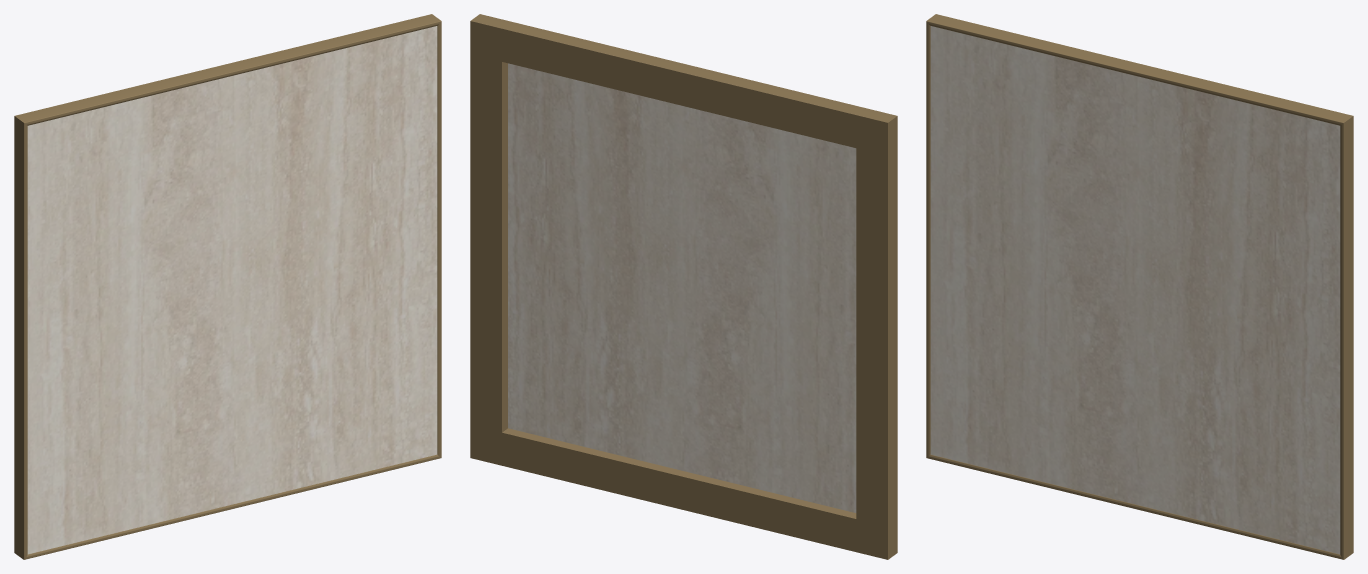
File: SDP-597-597-15.glb
3 renders of one model, left to right at view 1: azimuth 30°, elevation 25°; view 2: azimuth 150°, elevation 25°; view 3: azimuth 330°, elevation 25°, orthographic.
Visible parts, largest first — view 1: Object_node, Extrusion_node_1, Extrusion, Extrusion_node, Extrusion_node_0; view 2: Object_node, Extrusion_node_1, Extrusion, Extrusion_node, Extrusion_node_0; view 3: Object_node, Extrusion_node, Extrusion, Extrusion_node_1, Extrusion_node_0.
Boxes of the visible parts, left/top/right/bottom form: Object_node: left=27, top=26, right=437, bottom=554; Extrusion_node_1: left=14, top=116, right=27, bottom=559; Extrusion: left=15, top=14, right=441, bottom=125; Extrusion_node: left=437, top=21, right=441, bottom=457; Extrusion_node_0: left=24, top=454, right=440, bottom=559; Object_node: left=508, top=63, right=856, bottom=512; Extrusion_node_1: left=856, top=116, right=897, bottom=559; Extrusion: left=470, top=14, right=896, bottom=148; Extrusion_node: left=470, top=21, right=507, bottom=457; Extrusion_node_0: left=471, top=428, right=887, bottom=559; Object_node: left=930, top=26, right=1340, bottom=554; Extrusion_node: left=1340, top=116, right=1353, bottom=559; Extrusion: left=926, top=14, right=1352, bottom=125; Extrusion_node_1: left=926, top=21, right=930, bottom=457; Extrusion_node_0: left=927, top=454, right=1343, bottom=559.
Bounding box in the file's own units: 0.6 × 0.6 × 0.0242.
2 materials, 1 textured.
